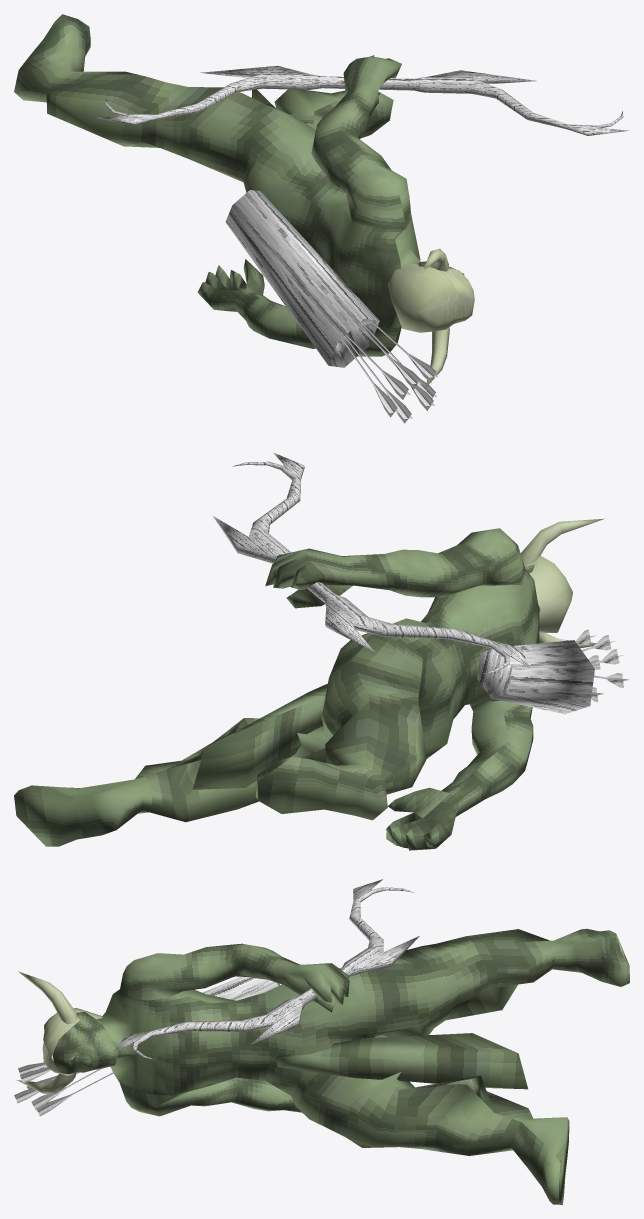
The model's file is meghnaad_000117.obj.
The picture shows the model from 3 angles, top to bottom: view 1: azimuth 30°, elevation 25°; view 2: azimuth 150°, elevation 25°; view 3: azimuth 270°, elevation 25°; orthographic projection. The views are drawn at different scales.
Visible parts, largest first — view 1: body_mesh15-geometry, quiver_Cylinder, bow_Cylinder.001, hair_mesh18-geometry, horn.000_Cone; view 2: body_mesh15-geometry, quiver_Cylinder, bow_Cylinder.001, hair_mesh18-geometry, horn.000_Cone; view 3: body_mesh15-geometry, bow_Cylinder.001, quiver_Cylinder, horn.000_Cone, hair_mesh18-geometry.
Boxes of the visible parts, x1,y1,x2,y2 form: body_mesh15-geometry: [14, 14, 464, 356]; quiver_Cylinder: [225, 190, 437, 423]; bow_Cylinder.001: [95, 65, 628, 135]; hair_mesh18-geometry: [388, 263, 474, 332]; horn.000_Cone: [424, 248, 449, 388]; body_mesh15-geometry: [14, 528, 540, 850]; quiver_Cylinder: [477, 629, 629, 714]; bow_Cylinder.001: [213, 452, 529, 674]; hair_mesh18-geometry: [524, 555, 572, 633]; horn.000_Cone: [520, 518, 604, 648]; body_mesh15-geometry: [53, 928, 629, 1204]; bow_Cylinder.001: [114, 879, 419, 1059]; quiver_Cylinder: [14, 976, 279, 1116]; horn.000_Cone: [16, 971, 77, 1093]; hair_mesh18-geometry: [42, 1008, 102, 1075].
Size of the model in its own units: 1.73 by 0.9579 by 2.49.
